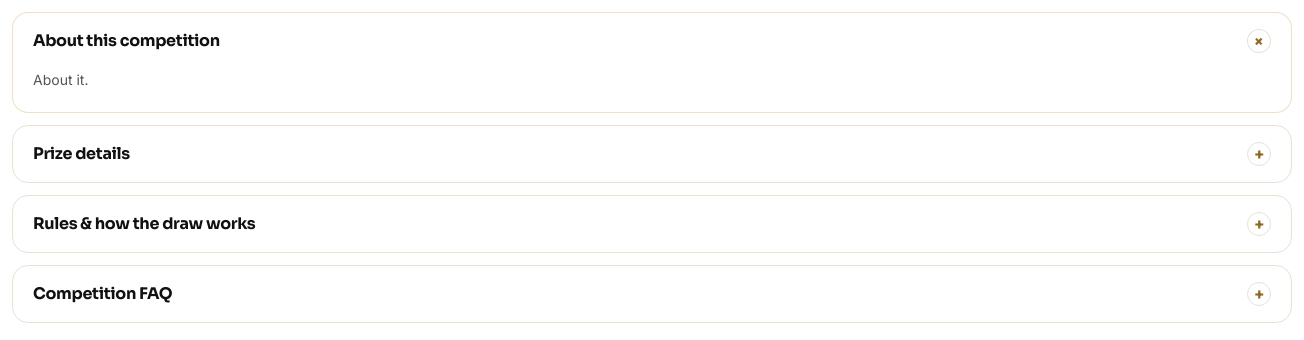
Test: CompetitionInfo prize details › a single prize without description falls back to its title, with no heading repeat
This screenshot has width=1304, height=340.
Click the button "Prize details +".
click(81, 153)  # box [13, 126, 1291, 182]
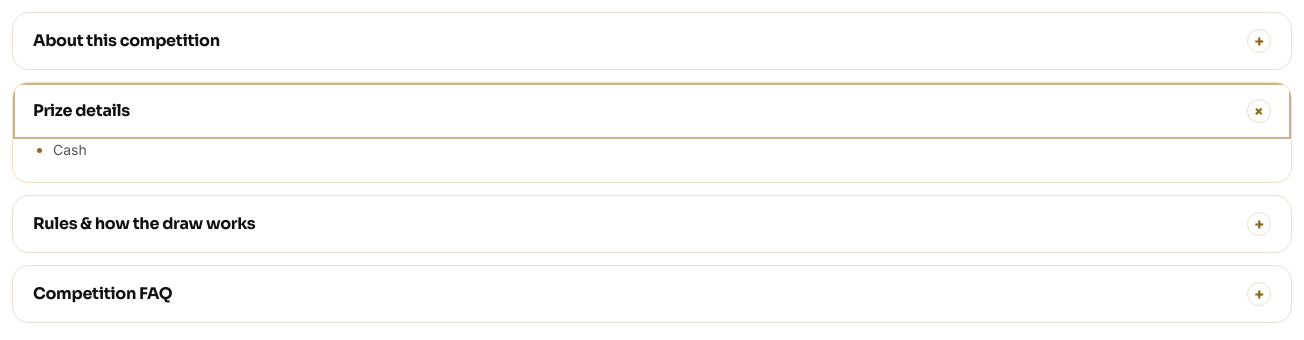
Expected: the number of list items "Cash" is 1, [53, 141, 87, 158]
